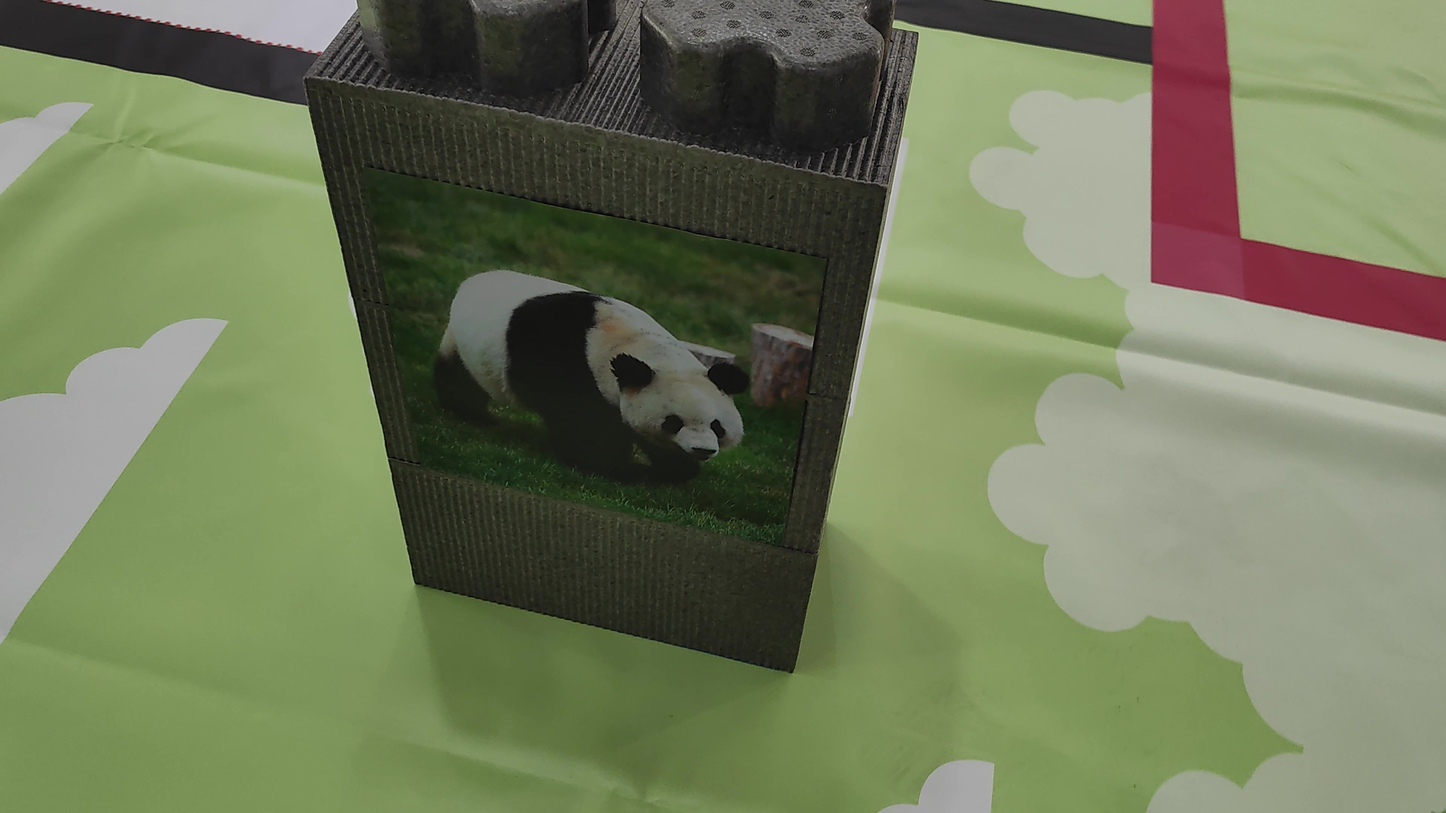panda: (407, 241, 753, 506)
